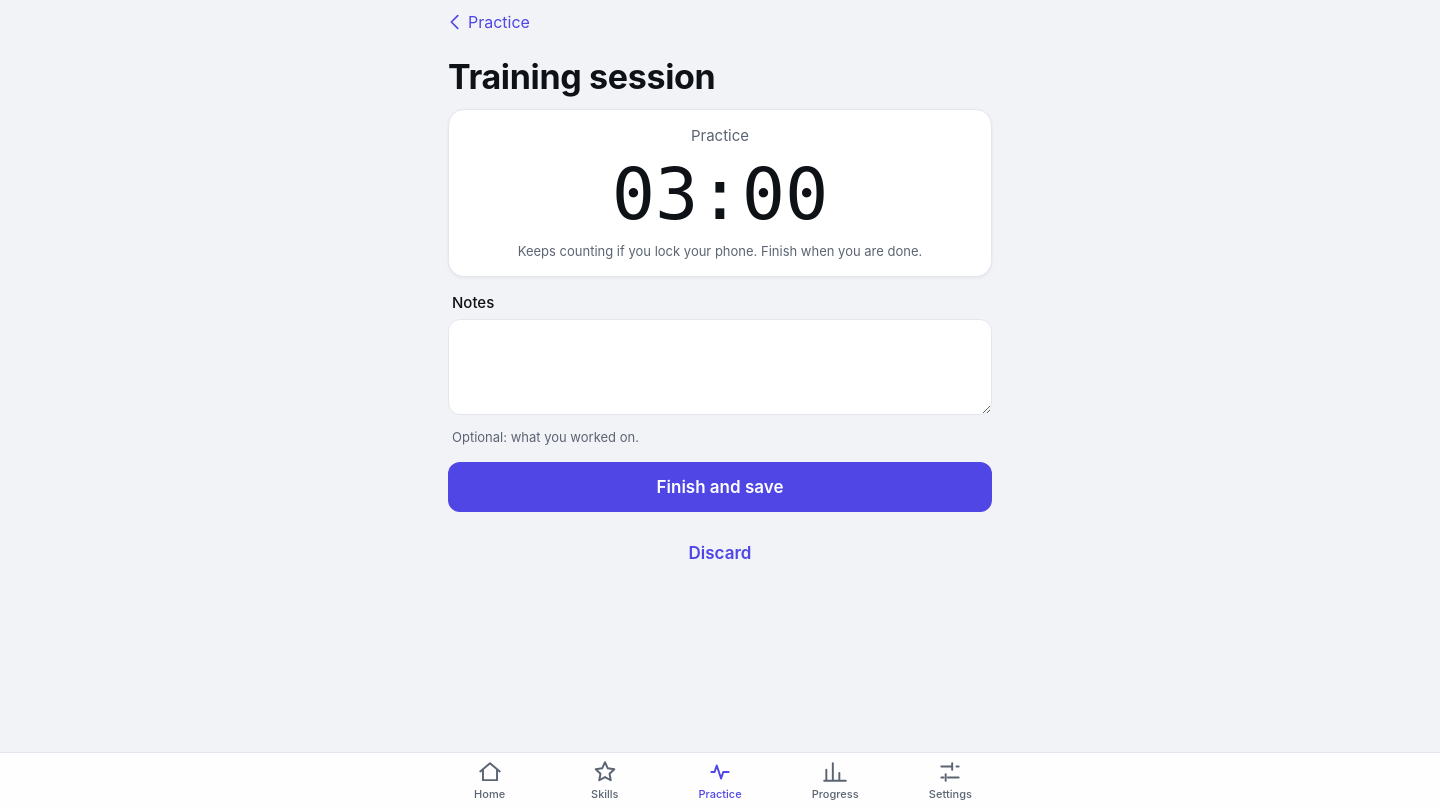
Test case: Session timer › discard asks first, then drops the timer without saving anything
Click the button "Discard" at (720,553), box x1=448 y1=528 x2=992 y2=578
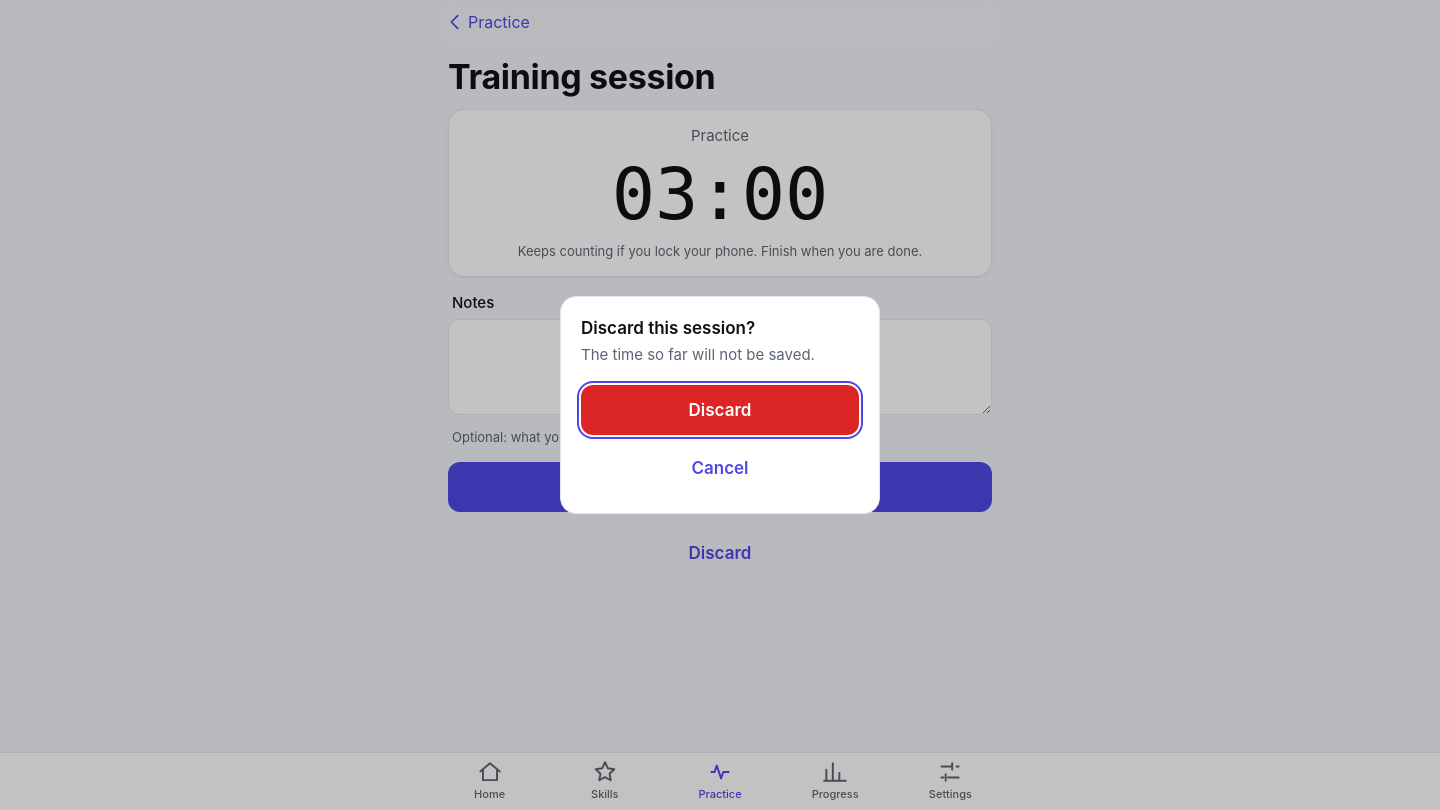
Click the button "Discard" at (720,410), box x1=581 y1=385 x2=859 y2=435
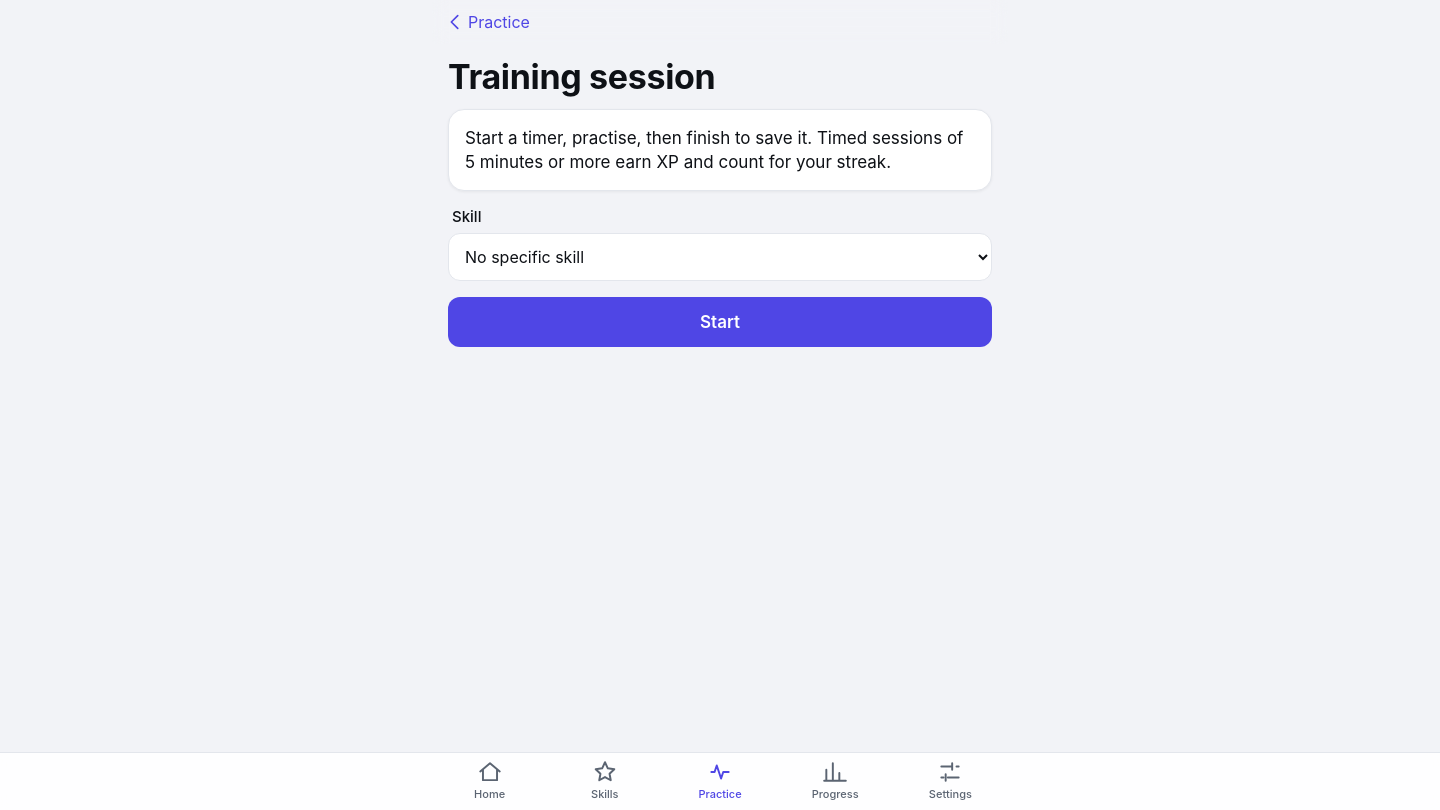
Expected: the button "Start" is shown, x1=448 y1=297 x2=992 y2=347
